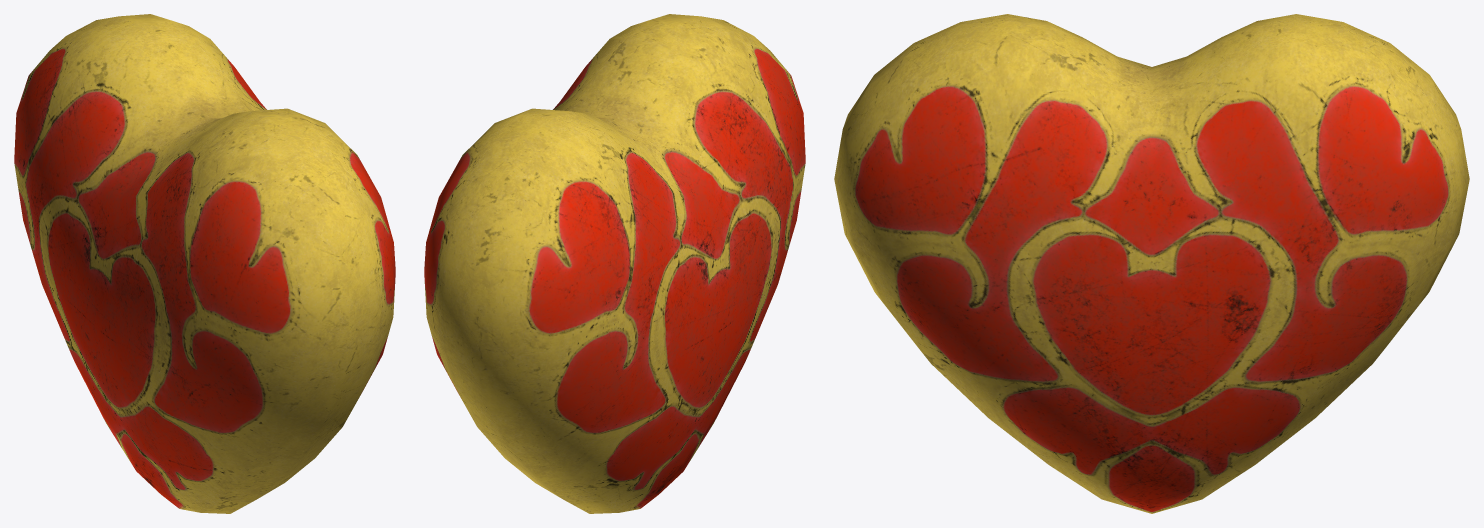
Rendered from food.obj.
3 views of the same model, side by side, from view 1: azimuth 30°, elevation 25°; view 2: azimuth 150°, elevation 25°; view 3: azimuth 270°, elevation 25° (orthographic). The views are drawn at different scales.
Parts seen in each view (by area): view 1: heart2:pCube1; view 2: heart2:pCube1; view 3: heart2:pCube1.
Boxes of the visible parts, x1,y1,x2,y2 form: heart2:pCube1: (14,14,395,513); heart2:pCube1: (424,14,805,513); heart2:pCube1: (834,14,1469,513).
Bounding box in the file's own units: 0.2582 × 0.5046 × 0.6.
